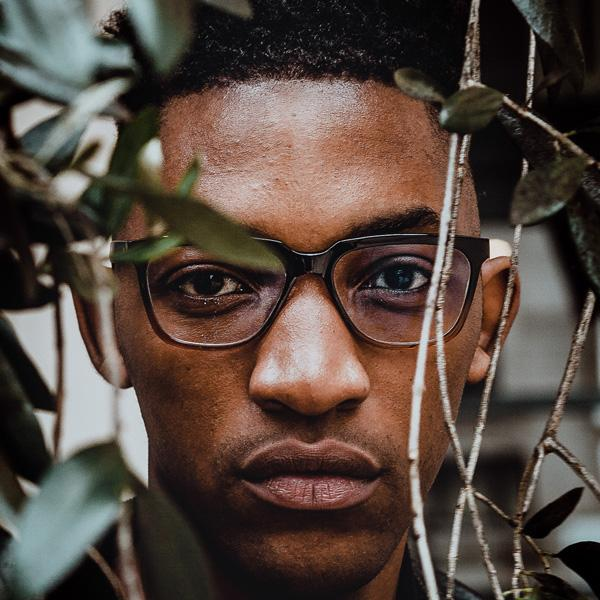Eyes: (154, 257, 264, 316), (350, 249, 442, 307)
